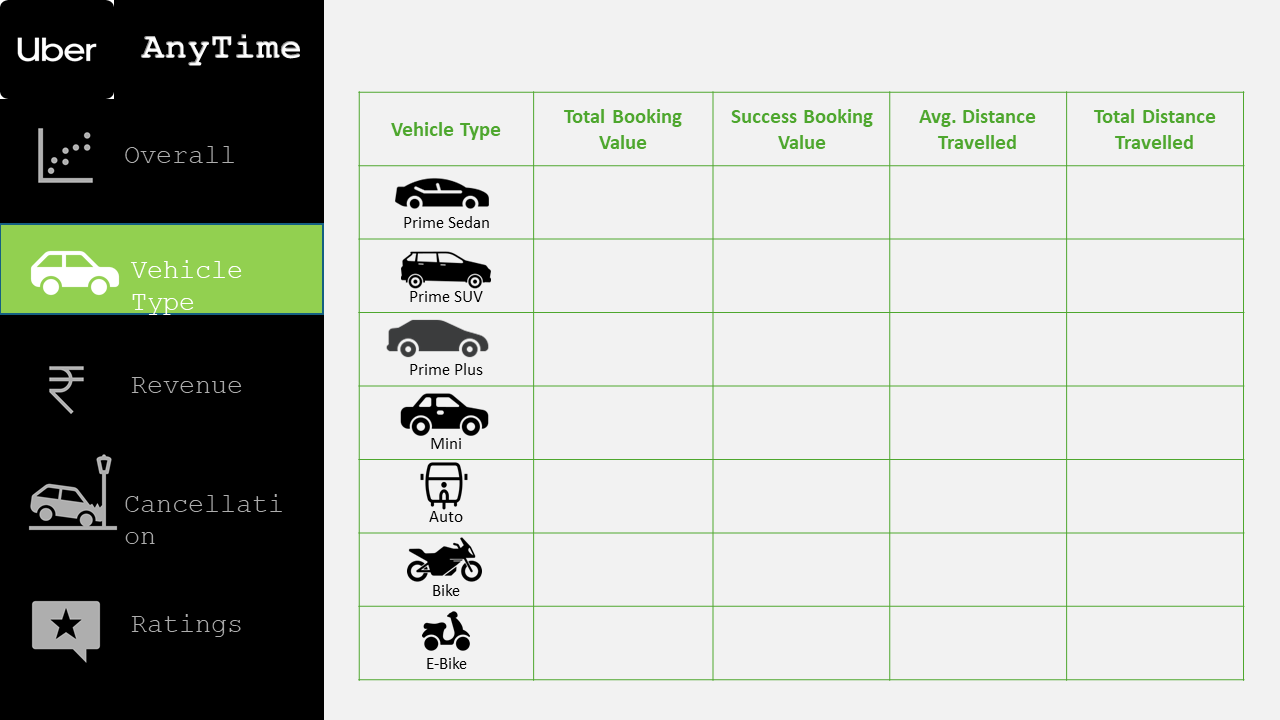

This screenshot's page, from the dashboard's own definition file:
{"tool":"powerbi","page":{"name":"Vehicle  type","canvas":[1280,720],"ordinal":1},"visuals":[{"type":"actionButton","box":[0,0,100,40],"z":0},{"type":"actionButton","box":[0,336.9,323.9,92.5],"z":1000},{"type":"card","fields":{"Values":["Sum(Bookings xlsx - July.Booking_Value)"]},"box":[539.3,166.3,166.3,69.4],"z":2000},{"type":"card","fields":{"Values":["Sum(Bookings xlsx - July.Booking_Value)"]},"box":[539.3,235.7,166.3,69.4],"z":3000},{"type":"card","fields":{"Values":["Sum(Bookings xlsx - July.Booking_Value)"]},"box":[539.3,313.7,166.3,69.4],"z":4000},{"type":"card","fields":{"Values":["Sum(Bookings xlsx - July.Booking_Value)"]},"box":[539.3,383.1,166.3,69.4],"z":5000},{"type":"card","fields":{"Values":["Sum(Bookings xlsx - July.Booking_Value)"]},"box":[539.3,452.5,166.3,69.4],"z":6000},{"type":"card","fields":{"Values":["Sum(Bookings xlsx - July.Booking_Value)"]},"box":[539.3,532,166.3,69.4],"z":7000},{"type":"card","fields":{"Values":["Sum(Bookings xlsx - July.Booking_Value)"]},"box":[539.3,601.4,166.3,69.4],"z":8000},{"type":"card","fields":{"Values":["Sum(Bookings xlsx - July.Booking_Value)"]},"box":[717.3,162.9,171.3,72.2],"z":9000},{"type":"card","fields":{"Values":["Sum(Bookings xlsx - July.Booking_Value)"]},"box":[717.3,236.9,171.3,72.2],"z":10000},{"type":"card","fields":{"Values":["Sum(Bookings xlsx - July.Booking_Value)"]},"box":[717.3,310.8,171.3,72.2],"z":11000},{"type":"card","fields":{"Values":["Sum(Bookings xlsx - July.Booking_Value)"]},"box":[717.3,601.4,171.3,72.2],"z":12000},{"type":"card","fields":{"Values":["Sum(Bookings xlsx - July.Booking_Value)"]},"box":[717.3,532.5,171.3,72.2],"z":13000},{"type":"card","fields":{"Values":["Sum(Bookings xlsx - July.Booking_Value)"]},"box":[717.3,379.6,171.3,72.2],"z":14000},{"type":"card","fields":{"Values":["Sum(Bookings xlsx - July.Booking_Value)"]},"box":[717.3,460.3,171.3,72.2],"z":15000},{"type":"card","fields":{"Values":["Avg(Bookings xlsx - July.Ride_Distance)"]},"box":[888.6,164.6,171.3,72.2],"z":16000},{"type":"card","fields":{"Values":["Avg(Bookings xlsx - July.Ride_Distance)"]},"box":[888.6,238.5,171.3,72.2],"z":17000},{"type":"card","fields":{"Values":["Avg(Bookings xlsx - July.Ride_Distance)"]},"box":[888.6,309.1,171.3,72.2],"z":18000},{"type":"card","fields":{"Values":["Avg(Bookings xlsx - July.Ride_Distance)"]},"box":[888.6,381.3,171.3,72.2],"z":19000},{"type":"card","fields":{"Values":["Avg(Bookings xlsx - July.Ride_Distance)"]},"box":[888.6,453.5,171.3,72.2],"z":20000},{"type":"card","fields":{"Values":["Avg(Bookings xlsx - July.Ride_Distance)"]},"box":[888.6,525.8,171.3,72.2],"z":21000},{"type":"card","fields":{"Values":["Avg(Bookings xlsx - July.Ride_Distance)"]},"box":[888.6,599.7,171.3,72.2],"z":22000},{"type":"card","fields":{"Values":["Sum(Bookings xlsx - July.Ride_Distance)"]},"box":[1059.9,162.9,171.3,72.2],"z":23000},{"type":"card","fields":{"Values":["Sum(Bookings xlsx - July.Ride_Distance)"]},"box":[1075.1,233.5,171.3,72.2],"z":24000},{"type":"card","fields":{"Values":["Sum(Bookings xlsx - July.Ride_Distance)"]},"box":[1075.1,309.1,171.3,72.2],"z":25000},{"type":"card","fields":{"Values":["Sum(Bookings xlsx - July.Ride_Distance)"]},"box":[1059.9,379.6,171.3,72.2],"z":26000},{"type":"card","fields":{"Values":["Sum(Bookings xlsx - July.Ride_Distance)"]},"box":[1075.1,453.5,171.3,72.2],"z":27000},{"type":"card","fields":{"Values":["Sum(Bookings xlsx - July.Ride_Distance)"]},"box":[1059.9,529.1,171.3,72.2],"z":28000},{"type":"card","fields":{"Values":["Sum(Bookings xlsx - July.Ride_Distance)"]},"box":[1059.9,599.7,171.3,72.2],"z":29000}]}

Visuals, with their boxes on the page's 1280x720 design canvas (x1, y1, x2, y2). These are canvas units, not pixel positions in the 1280x720 screenshot, which may show the page scaled, cropped or inside an application window:
actionButton: box(0, 0, 100, 40)
actionButton: box(0, 337, 324, 429)
card - Sum(Bookings xlsx - July.Booking_Value): box(539, 166, 706, 236)
card - Sum(Bookings xlsx - July.Booking_Value): box(539, 236, 706, 305)
card - Sum(Bookings xlsx - July.Booking_Value): box(539, 314, 706, 383)
card - Sum(Bookings xlsx - July.Booking_Value): box(539, 383, 706, 452)
card - Sum(Bookings xlsx - July.Booking_Value): box(539, 452, 706, 522)
card - Sum(Bookings xlsx - July.Booking_Value): box(539, 532, 706, 601)
card - Sum(Bookings xlsx - July.Booking_Value): box(539, 601, 706, 671)
card - Sum(Bookings xlsx - July.Booking_Value): box(717, 163, 889, 235)
card - Sum(Bookings xlsx - July.Booking_Value): box(717, 237, 889, 309)
card - Sum(Bookings xlsx - July.Booking_Value): box(717, 311, 889, 383)
card - Sum(Bookings xlsx - July.Booking_Value): box(717, 601, 889, 674)
card - Sum(Bookings xlsx - July.Booking_Value): box(717, 532, 889, 605)
card - Sum(Bookings xlsx - July.Booking_Value): box(717, 380, 889, 452)
card - Sum(Bookings xlsx - July.Booking_Value): box(717, 460, 889, 532)
card - Avg(Bookings xlsx - July.Ride_Distance): box(889, 165, 1060, 237)
card - Avg(Bookings xlsx - July.Ride_Distance): box(889, 238, 1060, 311)
card - Avg(Bookings xlsx - July.Ride_Distance): box(889, 309, 1060, 381)
card - Avg(Bookings xlsx - July.Ride_Distance): box(889, 381, 1060, 454)
card - Avg(Bookings xlsx - July.Ride_Distance): box(889, 454, 1060, 526)
card - Avg(Bookings xlsx - July.Ride_Distance): box(889, 526, 1060, 598)
card - Avg(Bookings xlsx - July.Ride_Distance): box(889, 600, 1060, 672)
card - Sum(Bookings xlsx - July.Ride_Distance): box(1060, 163, 1231, 235)
card - Sum(Bookings xlsx - July.Ride_Distance): box(1075, 234, 1246, 306)
card - Sum(Bookings xlsx - July.Ride_Distance): box(1075, 309, 1246, 381)
card - Sum(Bookings xlsx - July.Ride_Distance): box(1060, 380, 1231, 452)
card - Sum(Bookings xlsx - July.Ride_Distance): box(1075, 454, 1246, 526)
card - Sum(Bookings xlsx - July.Ride_Distance): box(1060, 529, 1231, 601)
card - Sum(Bookings xlsx - July.Ride_Distance): box(1060, 600, 1231, 672)
